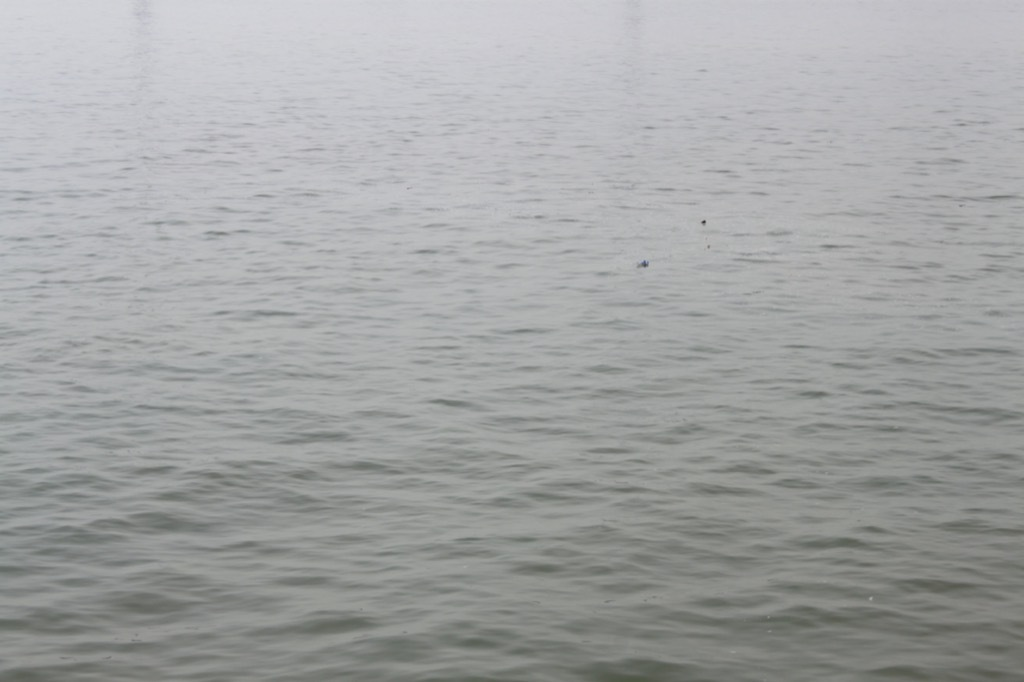plastic: (631, 256, 655, 274), (862, 591, 878, 607), (694, 216, 710, 229)
structure: (611, 1, 660, 112), (119, 1, 165, 103)
